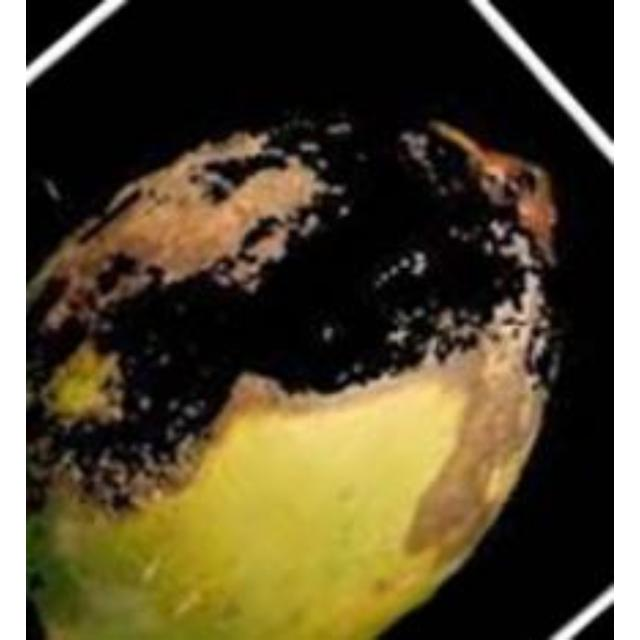damaged: (26, 118, 562, 637)
